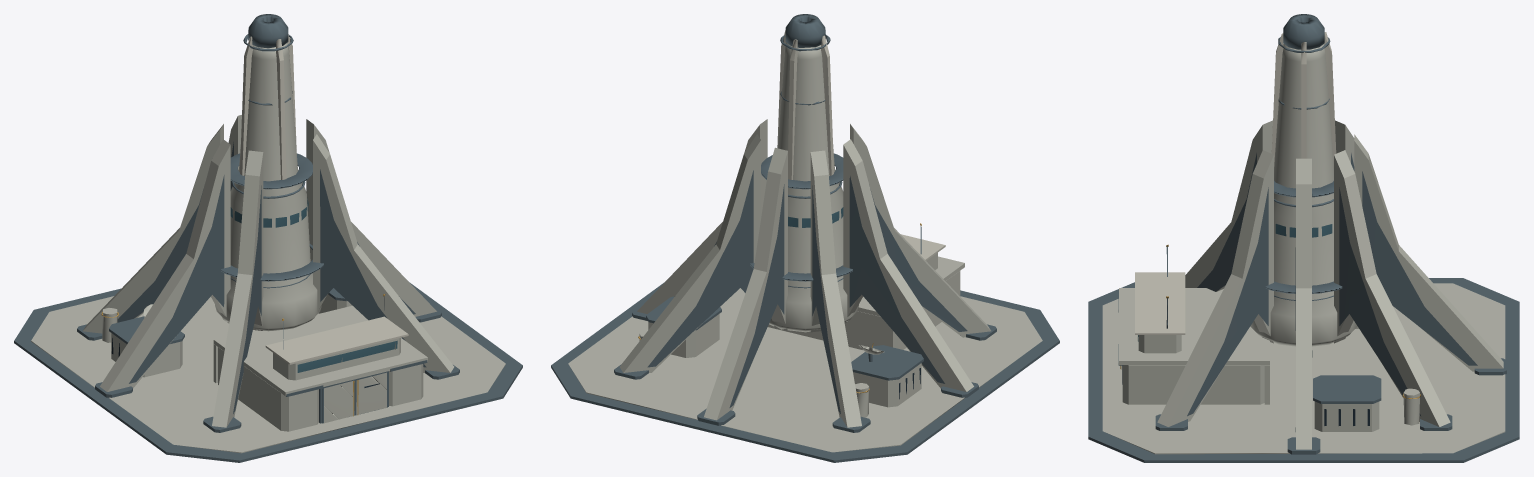
The picture shows the model from 3 angles, left to right: view 1: azimuth 30°, elevation 25°; view 2: azimuth 150°, elevation 25°; view 3: azimuth 270°, elevation 25°; orthographic projection. The views are drawn at different scales.
Visible parts, largest first — view 1: DISTANCE_STATIC; view 2: DISTANCE_STATIC; view 3: DISTANCE_STATIC.
Boxes of the visible parts, box(x1,y1,x2,y2) form: DISTANCE_STATIC: box(14, 14, 522, 462); DISTANCE_STATIC: box(551, 14, 1059, 462); DISTANCE_STATIC: box(1088, 14, 1519, 462).
Size of the model in its own units: 60 by 54 by 60.
